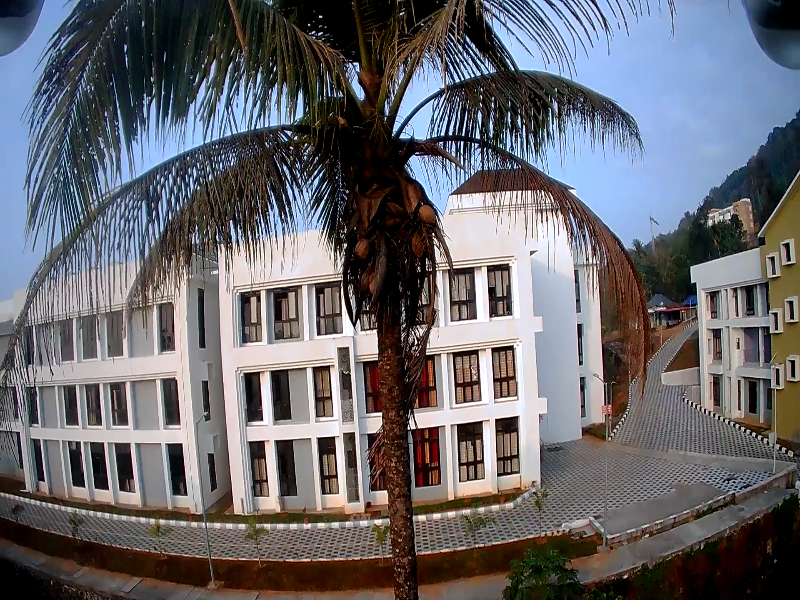coconut: (407, 227, 427, 260), (414, 198, 436, 226), (364, 268, 379, 292), (355, 237, 368, 257), (359, 265, 368, 287)
